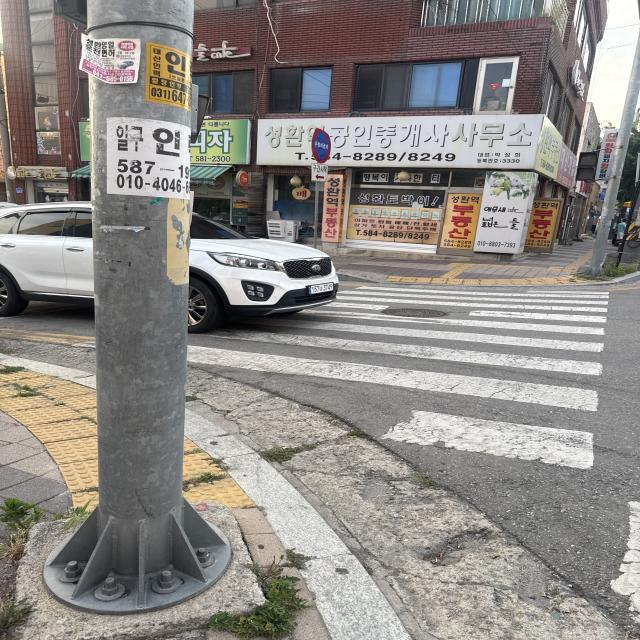car: (0, 200, 334, 330)
